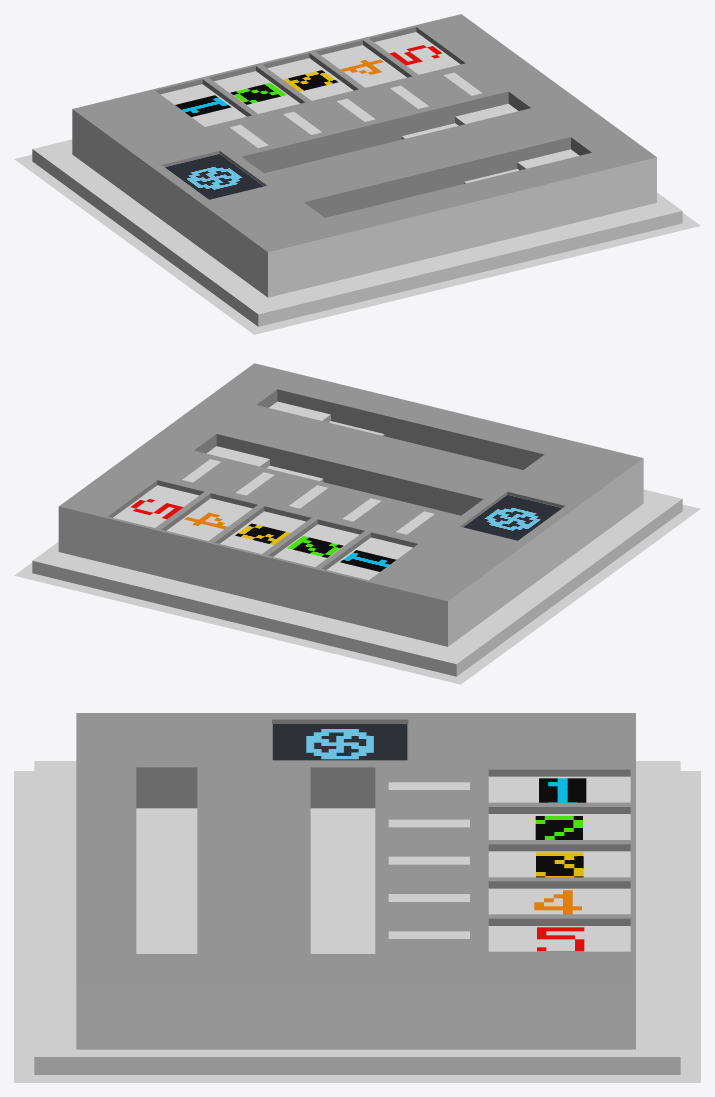
The model's file is AnomalyPalancaRefriVentilador.fbx.
3 renders of one model, top to bottom at view 1: azimuth 30°, elevation 25°; view 2: azimuth 150°, elevation 25°; view 3: azimuth 270°, elevation 25°, orthographic. The views are drawn at different scales.
Parts seen in each view (by area): view 1: Cube.025; view 2: Cube.025; view 3: Cube.025.
Part boxes in pixels (x1,y1,x2,y2): Cube.025: (14,14,700,334); Cube.025: (14,363,700,684); Cube.025: (14,713,700,1082).
Size of the model in its own units: 13.95 by 1.73 by 12.99.
